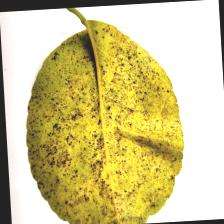canker: (59, 76, 144, 164)
